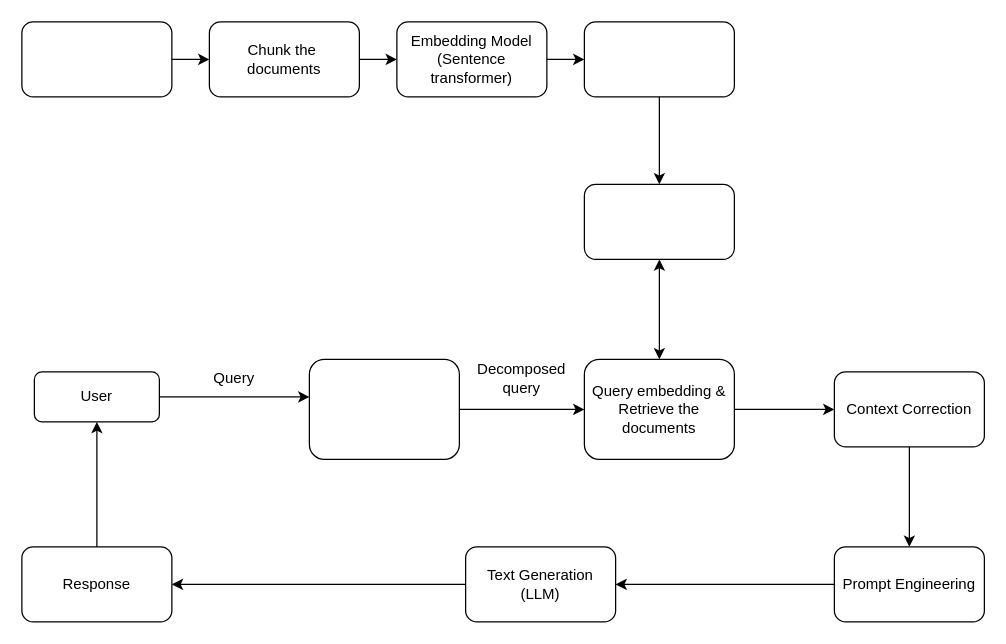
Image size: 1006x644. Some labels were removed from this diagram. The centre of each missing label's shape, as x and y in pixels:
"Elasticsearch Vector Store" goes at (658,221).
"Load the documents (Fetch data from API)" goes at (96,59).
"Query Classification and decomposition" goes at (383,408).
"Vector points" goes at (658,59).
